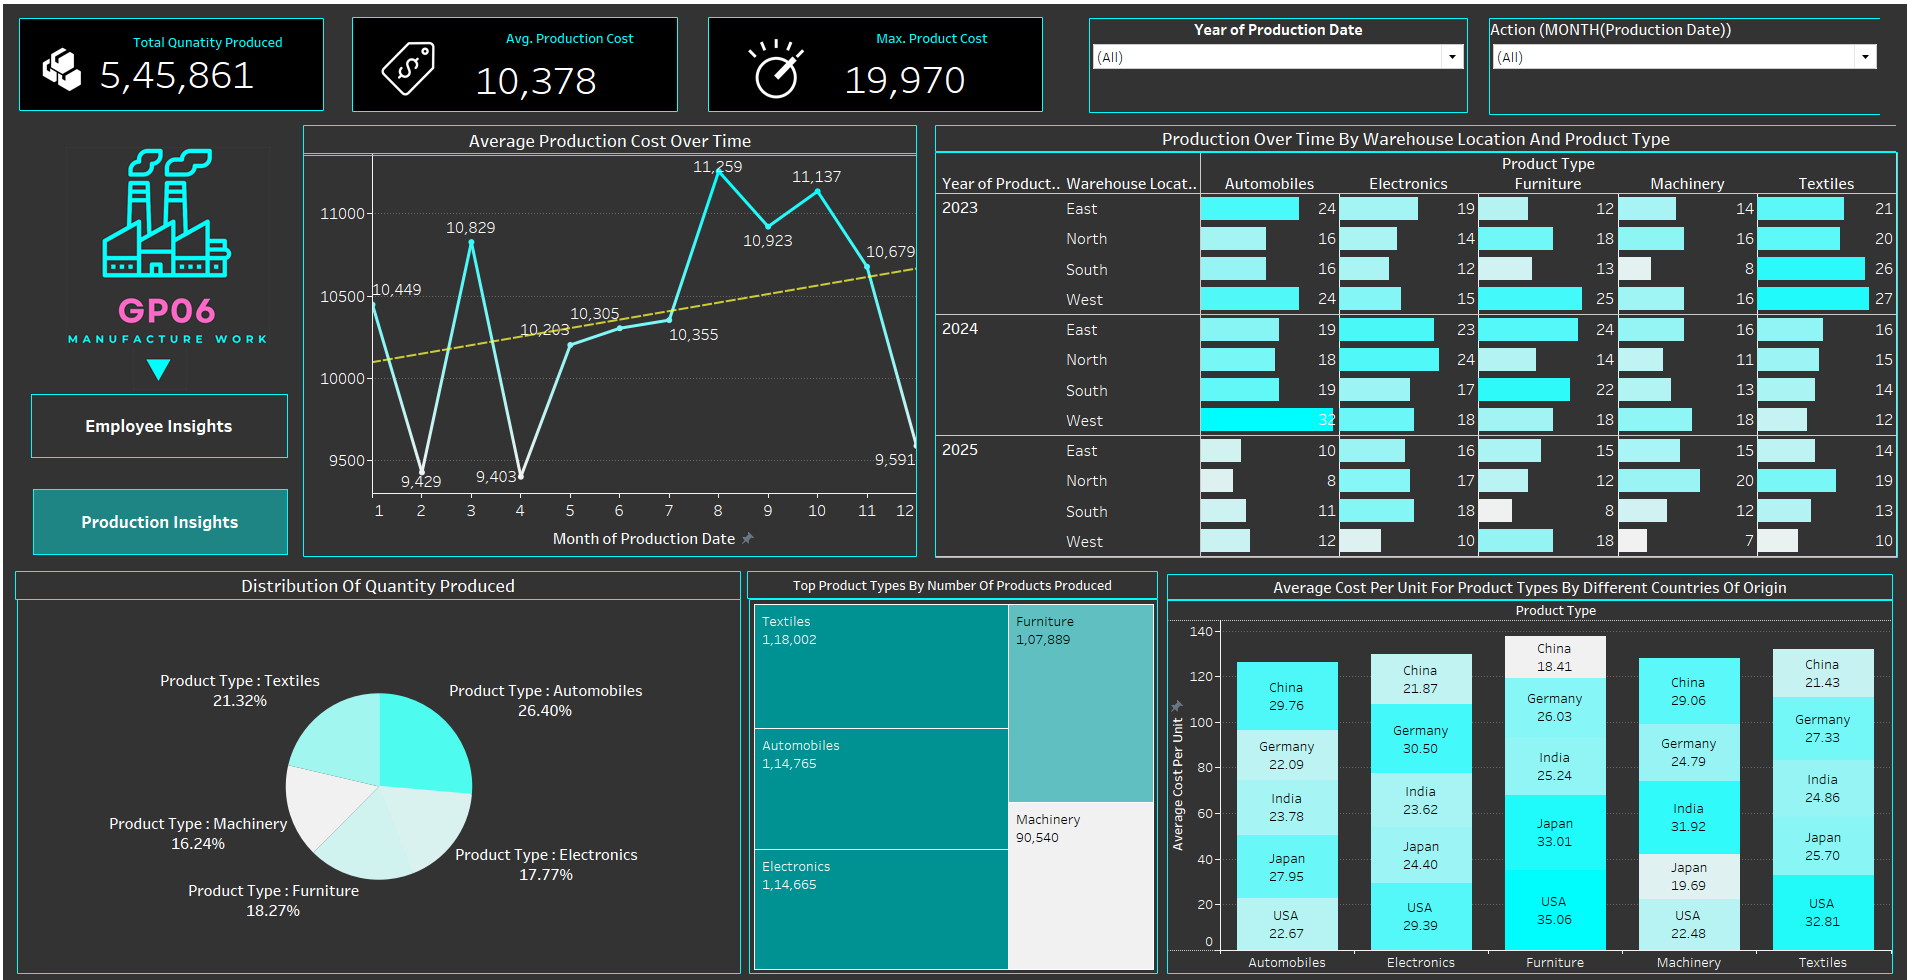

This screenshot's page, from the dashboard's own definition file:
{"tool":"tableau","page":{"name":"Dashboard T-Production Insights","canvas":[1000,1000],"units":"permille","ordinal":0},"visuals":[{"type":"blank","box":[186.1,21,169.7,95.3]},{"type":"text","box":[239.3,21,119.7,42.1]},{"type":"blank","box":[371.3,21,174.6,95.3]},{"type":"text","box":[428,21,119.6,42.1]},{"type":"blank","box":[12.3,22.3,159,94.1]},{"type":"filter","title":"9s-Average Production Cost Over Time","param":"[federated.16mxhaw1crub1916i474u0y57at2].[yr:ProductionDate:ok]","box":[569.7,22.3,197.5,95.3]},{"type":"filter","title":"14g-Distribution Of Quantity Produced By Different Countries","param":"[federated.16mxhaw1crub1916i474u0y57at2].[Action (MONTH(Production Date))]","box":[777.9,22.3,204.1,97.8]},{"type":"text","box":[50.8,24.8,119.7,42.1]},{"type":"image","param":"Image/Screenshot 2024-03-16 at 2.55.01 PM.png","box":[377.9,35.9,55.7,68.1]},{"type":"image","param":"Image/Screenshot 2024-03-16 at 2.47.41 PM.png","box":[193.4,37.1,45.9,69.3]},{"type":"image","param":"Image/Screenshot 2024-03-16 at 2.44.58 PM.png","box":[18.9,48.3,32,49.5]},{"type":"worksheet","title":"Total Quantity Produced","mark":"Automatic","box":[49.5,55.8,115.9,55.8]},{"type":"worksheet","title":"Max Production Cost","mark":"Automatic","box":[435.2,56.9,100.8,66.8]},{"type":"worksheet","title":"Avg Production Cost","mark":"Automatic","box":[243.4,58.2,106.6,65.6]},{"type":"text","box":[160.7,129.9,319.7,30.9]},{"type":"text","box":[489.3,129.9,500.8,27.2]},{"type":"image","param":"Image/Screenshot 2024-03-15 at 10.14.24 PM.png","box":[27.1,151,126.2,203]},{"type":"worksheet","title":"1k-Production Over Time By Warehouse Location And Product Type","mark":"Bar","rows":["ProductionDate","Calculation_406379562091048965"],"cols":["ProductType"],"box":[489.3,157.2,501.6,408.4]},{"type":"worksheet","title":"9s-Average Production Cost Over Time","mark":"Automatic","rows":["Calculation_406379562085355522"],"cols":["ProductionDate"],"box":[160.7,158.4,319.7,407.2]},{"type":"image","param":"Image/Screenshot 2024-03-15 at 6.59.47 PM.png","box":[45.9,346.5,79.5,50.7]},{"type":"dashboard-object","box":[18.9,401,133.6,64.4]},{"type":"dashboard-object","box":[19.7,496.3,132.8,66.8]},{"type":"text","box":[10.7,579.2,377.9,29.7]},{"type":"text","box":[391.8,579.2,213.9,28.5]},{"type":"text","box":[610.7,581.7,377.9,27.2]},{"type":"worksheet","title":"14g-Distribution Of Quantity Produced By Different Countries","mark":"Pie","box":[11.5,607.7,377.1,377.5]},{"type":"worksheet","title":"7z-Top Product Types By Number Of Products Produced","mark":"Automatic","box":[392.6,607.7,213.1,377.5]},{"type":"worksheet","title":"2k-Average Cost Per Unit For Product Types By Different Countries","mark":"Automatic","rows":["Calculation_406379562132557833"],"cols":["ProductType"],"box":[610.7,607.7,377.9,377.5]}]}

Visuals, with their boxes on the dashboard's canvas, which has no fixed pixel size, in thousandths of its width and height (x1, y1, x2, y2). These are canvas units, not pixel positions in the 1908x980 screenshot, which may show the page scaled, cropped or inside an application window:
blank: bbox=[186, 21, 356, 116]
text: bbox=[239, 21, 359, 63]
blank: bbox=[371, 21, 546, 116]
text: bbox=[428, 21, 548, 63]
blank: bbox=[12, 22, 171, 116]
"9s-Average Production Cost Over Time" filter: bbox=[570, 22, 767, 118]
"14g-Distribution Of Quantity Produced By Different Countries" filter: bbox=[778, 22, 982, 120]
text: bbox=[51, 25, 170, 67]
image: bbox=[378, 36, 434, 104]
image: bbox=[193, 37, 239, 106]
image: bbox=[19, 48, 51, 98]
"Total Quantity Produced" worksheet: bbox=[50, 56, 165, 112]
"Max Production Cost" worksheet: bbox=[435, 57, 536, 124]
"Avg Production Cost" worksheet: bbox=[243, 58, 350, 124]
text: bbox=[161, 130, 480, 161]
text: bbox=[489, 130, 990, 157]
image: bbox=[27, 151, 153, 354]
"1k-Production Over Time By Warehouse Location And Product Type" worksheet (Bar marks): bbox=[489, 157, 991, 566]
"9s-Average Production Cost Over Time" worksheet: bbox=[161, 158, 480, 566]
image: bbox=[46, 346, 125, 397]
dashboard-object: bbox=[19, 401, 152, 465]
dashboard-object: bbox=[20, 496, 152, 563]
text: bbox=[11, 579, 389, 609]
text: bbox=[392, 579, 606, 608]
text: bbox=[611, 582, 989, 609]
"14g-Distribution Of Quantity Produced By Different Countries" worksheet (Pie marks): bbox=[12, 608, 389, 985]
"7z-Top Product Types By Number Of Products Produced" worksheet: bbox=[393, 608, 606, 985]
"2k-Average Cost Per Unit For Product Types By Different Countries" worksheet: bbox=[611, 608, 989, 985]
